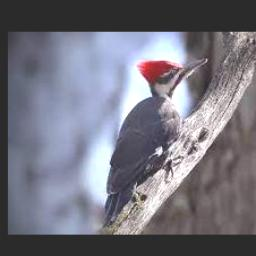Woodpecker: (103, 58, 207, 225)
